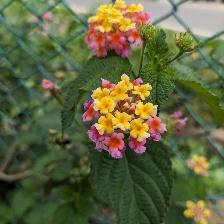common lanthana: (82, 72, 174, 157)
